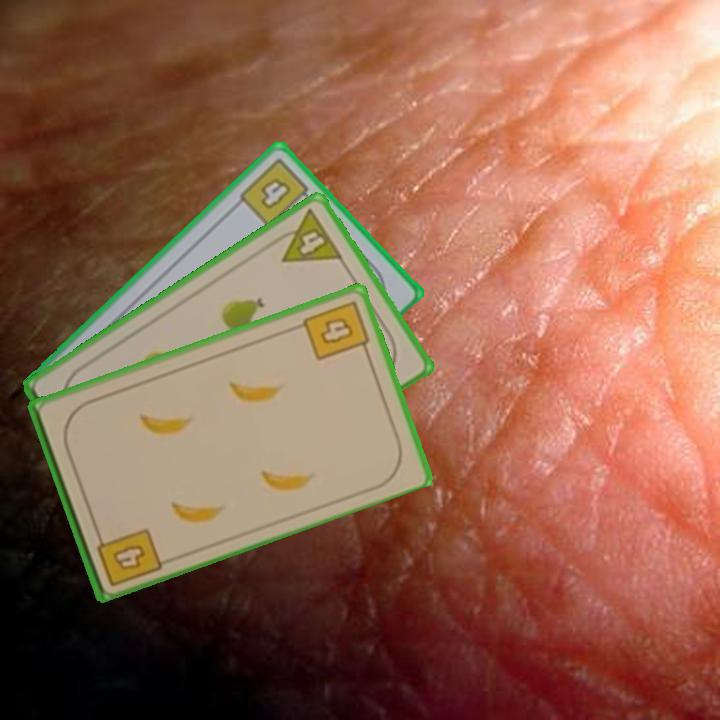4b: (235, 154, 318, 230), (299, 296, 373, 363), (92, 524, 164, 589)
4p: (267, 205, 346, 266)
